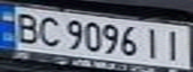0: (81, 19, 103, 53)
6: (118, 24, 142, 57)
9: (60, 17, 84, 52), (100, 21, 121, 56)
B: (9, 10, 42, 44)
C: (33, 14, 63, 47)
I: (160, 27, 190, 62), (139, 26, 166, 61)
